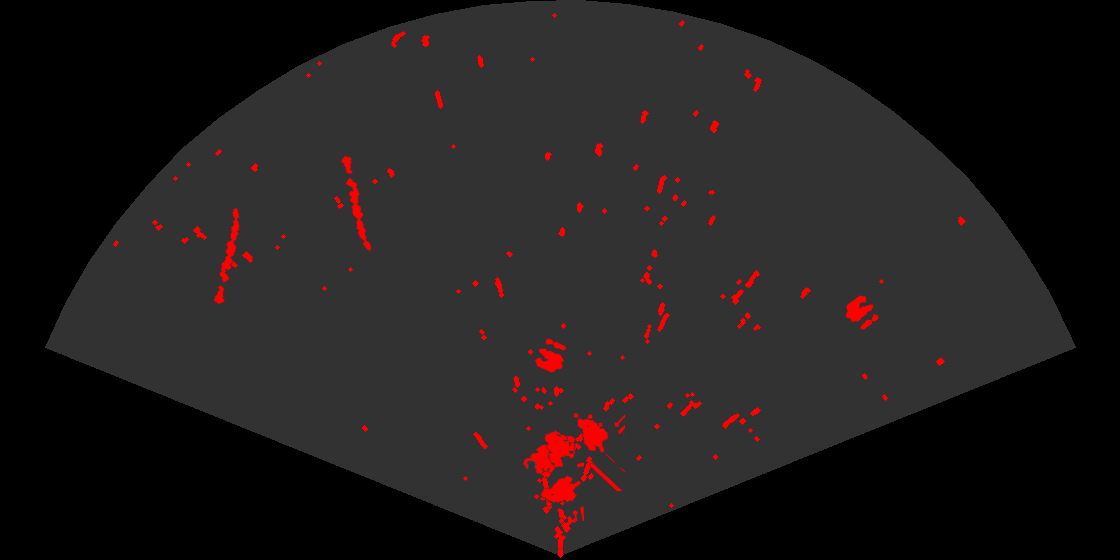ball: (844, 294, 880, 331), (533, 337, 568, 374)
cage: (543, 411, 625, 491), (522, 441, 584, 521)
chain: (340, 153, 373, 253), (212, 206, 241, 306)
